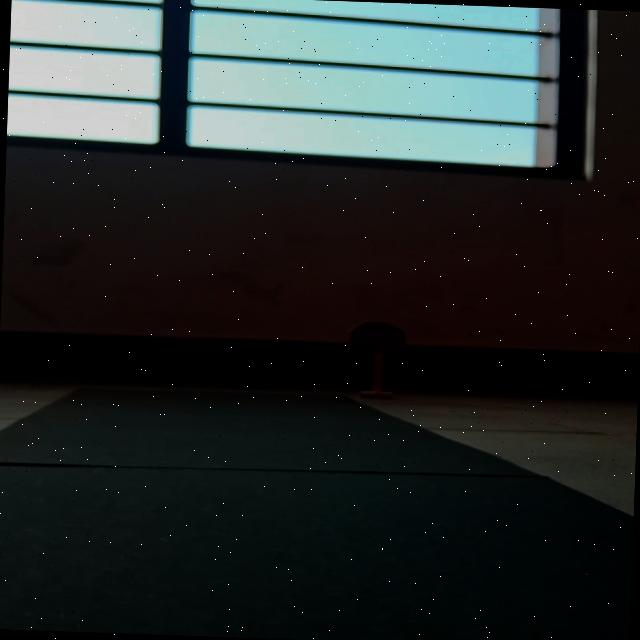Stop: (346, 317, 410, 355)
